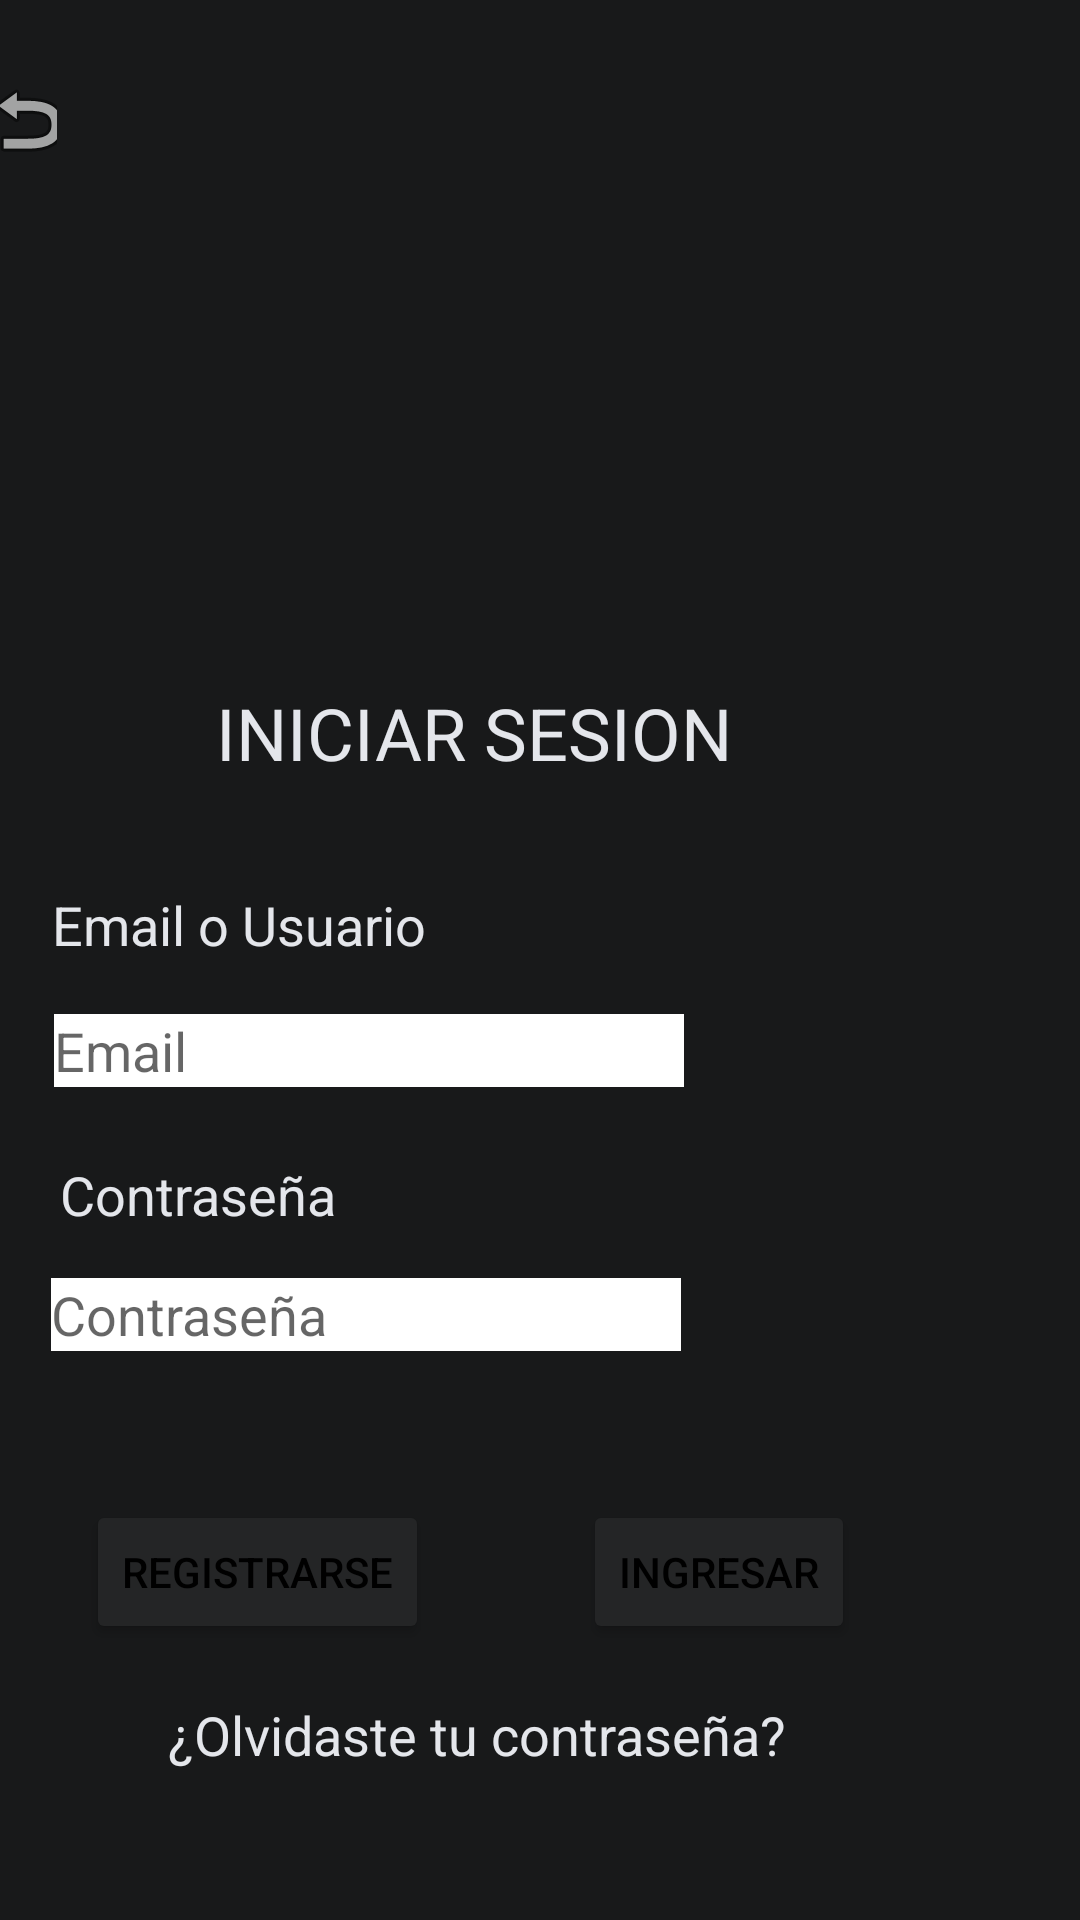

Named icons in this screenshot (1080*1920) and their bounding boxes, bbox=[x1, y1, x2, y2]:
revert: bbox=[0, 92, 57, 149]
